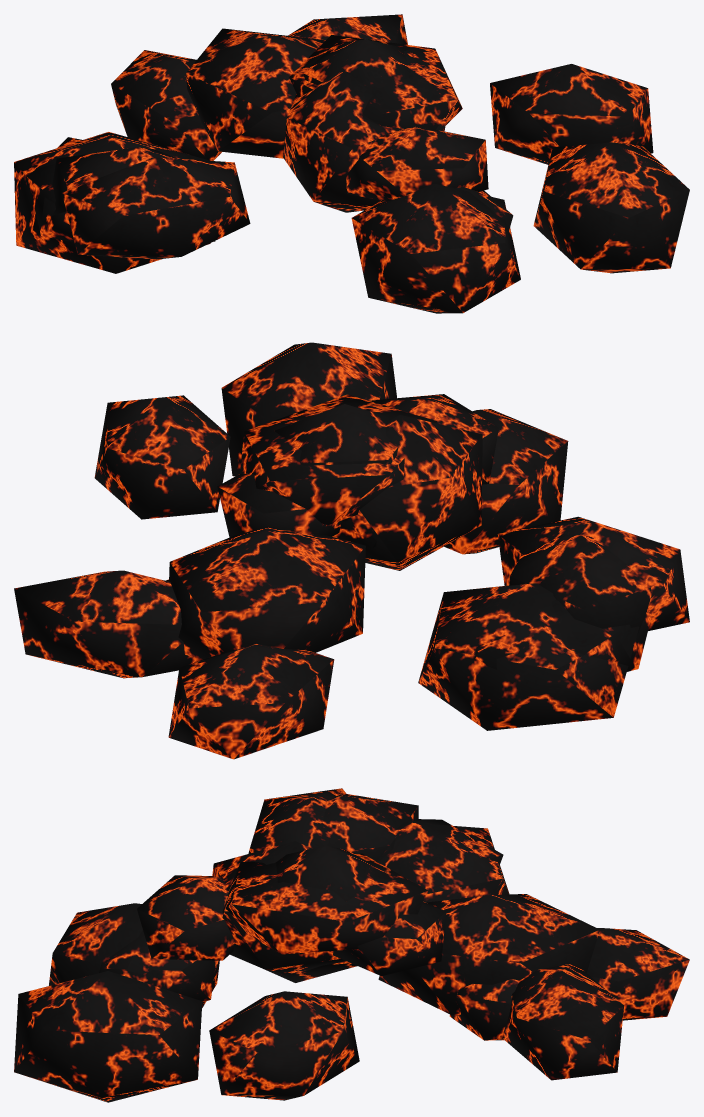
Rendered from ember_bed.glb.
The picture shows the model from 3 angles, top to bottom: view 1: azimuth 30°, elevation 25°; view 2: azimuth 150°, elevation 25°; view 3: azimuth 270°, elevation 25°; orthographic projection. The views are drawn at different scales.
Parts seen in each view (by area): view 1: EmberBed; view 2: EmberBed; view 3: EmberBed.
Boxes of the visible parts, x1,y1,x2,y2 form: EmberBed: (14,14,689,313); EmberBed: (14,342,689,759); EmberBed: (14,788,689,1102).
Size of the model in its own units: 0.2802 by 0.1017 by 0.2972.
1 material, 1 textured.
